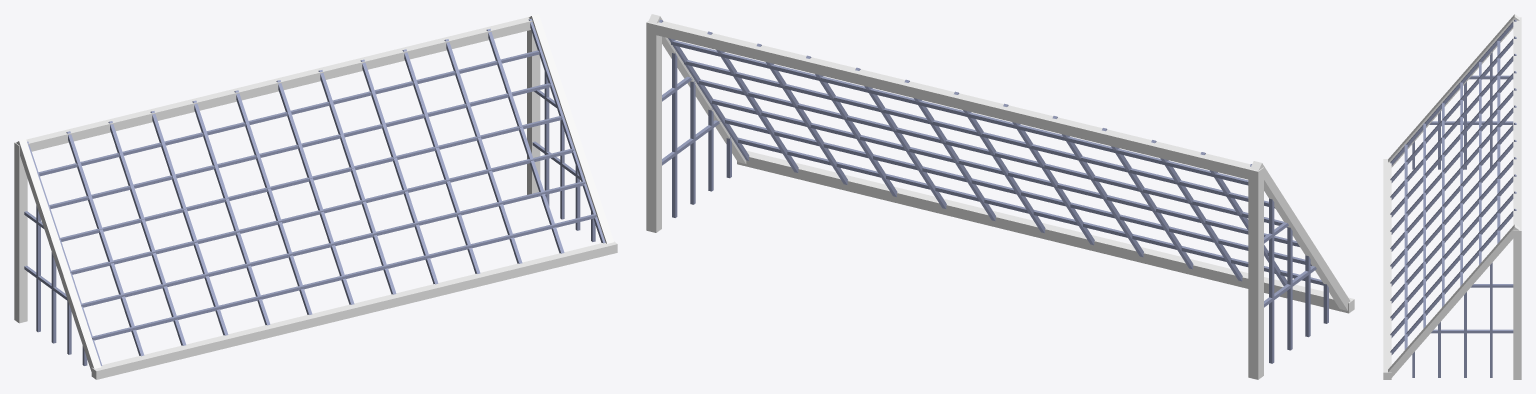
Rendered from but-football.glb.
The picture shows the model from 3 angles, left to right: view 1: azimuth 30°, elevation 25°; view 2: azimuth 150°, elevation 25°; view 3: azimuth 270°, elevation 25°; orthographic projection. The views are drawn at different scales.
Visible parts, largest first — view 1: lest-arriere, barre-transversale, arete-0, filet-lisse-6, filet-lisse-5, filet-lisse-4, filet-lisse-3, filet-lisse-2, filet-lisse-1, montant-0, arete-1, montant-1 (+15 smaller); view 2: barre-transversale, lest-arriere, montant-0, montant-1, filet-lisse-1, filet-lisse-2, filet-lisse-3, filet-lisse-4, filet-lisse-5, filet-lisse-6, arete-0, arete-1 (+15 smaller); view 3: lest-arriere, barre-transversale, arete-1, montant-1, arete-0, filet-lisse-6, filet-brin-6, filet-brin-7, filet-brin-3, filet-brin-11, filet-brin-2, filet-brin-5 (+19 smaller).
Part boxes in pixels (<box>): lest-arriere: <box>91,241,617,379</box>; barre-transversale: <box>14,17,531,154</box>; arete-0: <box>16,139,101,371</box>; filet-lisse-6: <box>91,214,596,340</box>; filet-lisse-5: <box>81,181,585,307</box>; filet-lisse-4: <box>70,149,574,274</box>; filet-lisse-3: <box>59,116,562,241</box>; filet-lisse-2: <box>49,83,550,208</box>; filet-lisse-1: <box>38,50,539,176</box>; montant-0: <box>14,141,27,323</box>; arete-1: <box>529,14,613,243</box>; montant-1: <box>527,16,540,194</box>; barre-transversale: <box>646,21,1263,181</box>; lest-arriere: <box>737,150,1354,313</box>; montant-0: <box>1248,167,1263,379</box>; montant-1: <box>646,21,661,232</box>; filet-lisse-1: <box>671,40,1248,185</box>; filet-lisse-2: <box>684,60,1275,208</box>; filet-lisse-3: <box>697,79,1287,227</box>; filet-lisse-4: <box>710,99,1299,246</box>; filet-lisse-5: <box>725,118,1311,266</box>; filet-lisse-6: <box>738,137,1323,285</box>; arete-0: <box>1250,161,1350,310</box>; arete-1: <box>648,14,746,163</box>; lest-arriere: <box>1383,159,1391,379</box>; barre-transversale: <box>1513,21,1521,238</box>; arete-1: <box>1388,224,1519,377</box>; montant-1: <box>1513,227,1521,379</box>; arete-0: <box>1388,14,1519,167</box>; filet-lisse-6: <box>1404,144,1407,349</box>; filet-brin-6: <box>1390,122,1516,268</box>; filet-brin-7: <box>1390,140,1516,286</box>; filet-brin-3: <box>1390,71,1516,217</box>; filet-brin-11: <box>1390,209,1516,354</box>; filet-brin-2: <box>1390,54,1516,199</box>; filet-brin-5: <box>1390,105,1516,251</box>.
Bounding box in the file's own units: 0.366 × 0.122 × 0.1.
